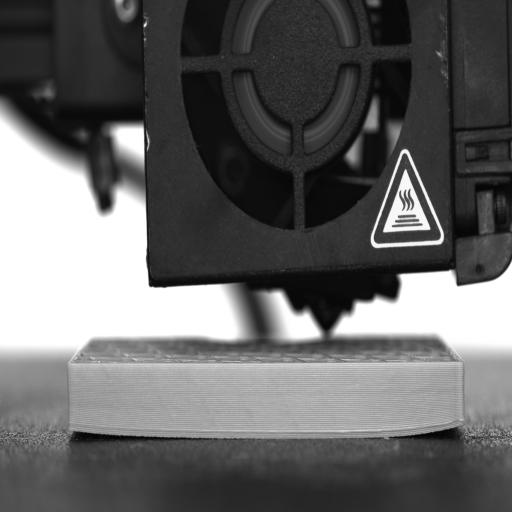warp: (424, 409, 470, 441), (60, 419, 104, 443)
